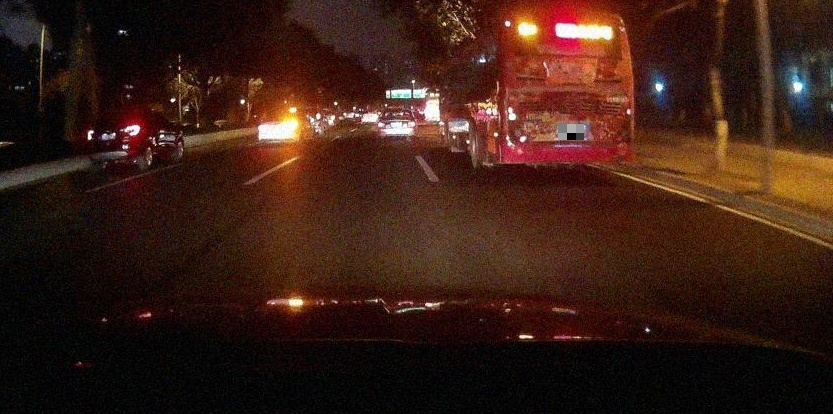L_light: (507, 103, 527, 148), (87, 130, 95, 140), (378, 122, 385, 127), (258, 125, 266, 129)
R_light: (618, 102, 633, 146), (123, 124, 140, 136), (290, 123, 299, 127), (409, 122, 416, 127)
T_light: (558, 46, 585, 54), (110, 112, 119, 115), (276, 110, 283, 112), (394, 110, 401, 112)
night-no: (499, 4, 635, 171), (86, 109, 143, 168), (377, 108, 417, 138)
night-right: (257, 108, 302, 143)
plate_1: (558, 124, 584, 140)
